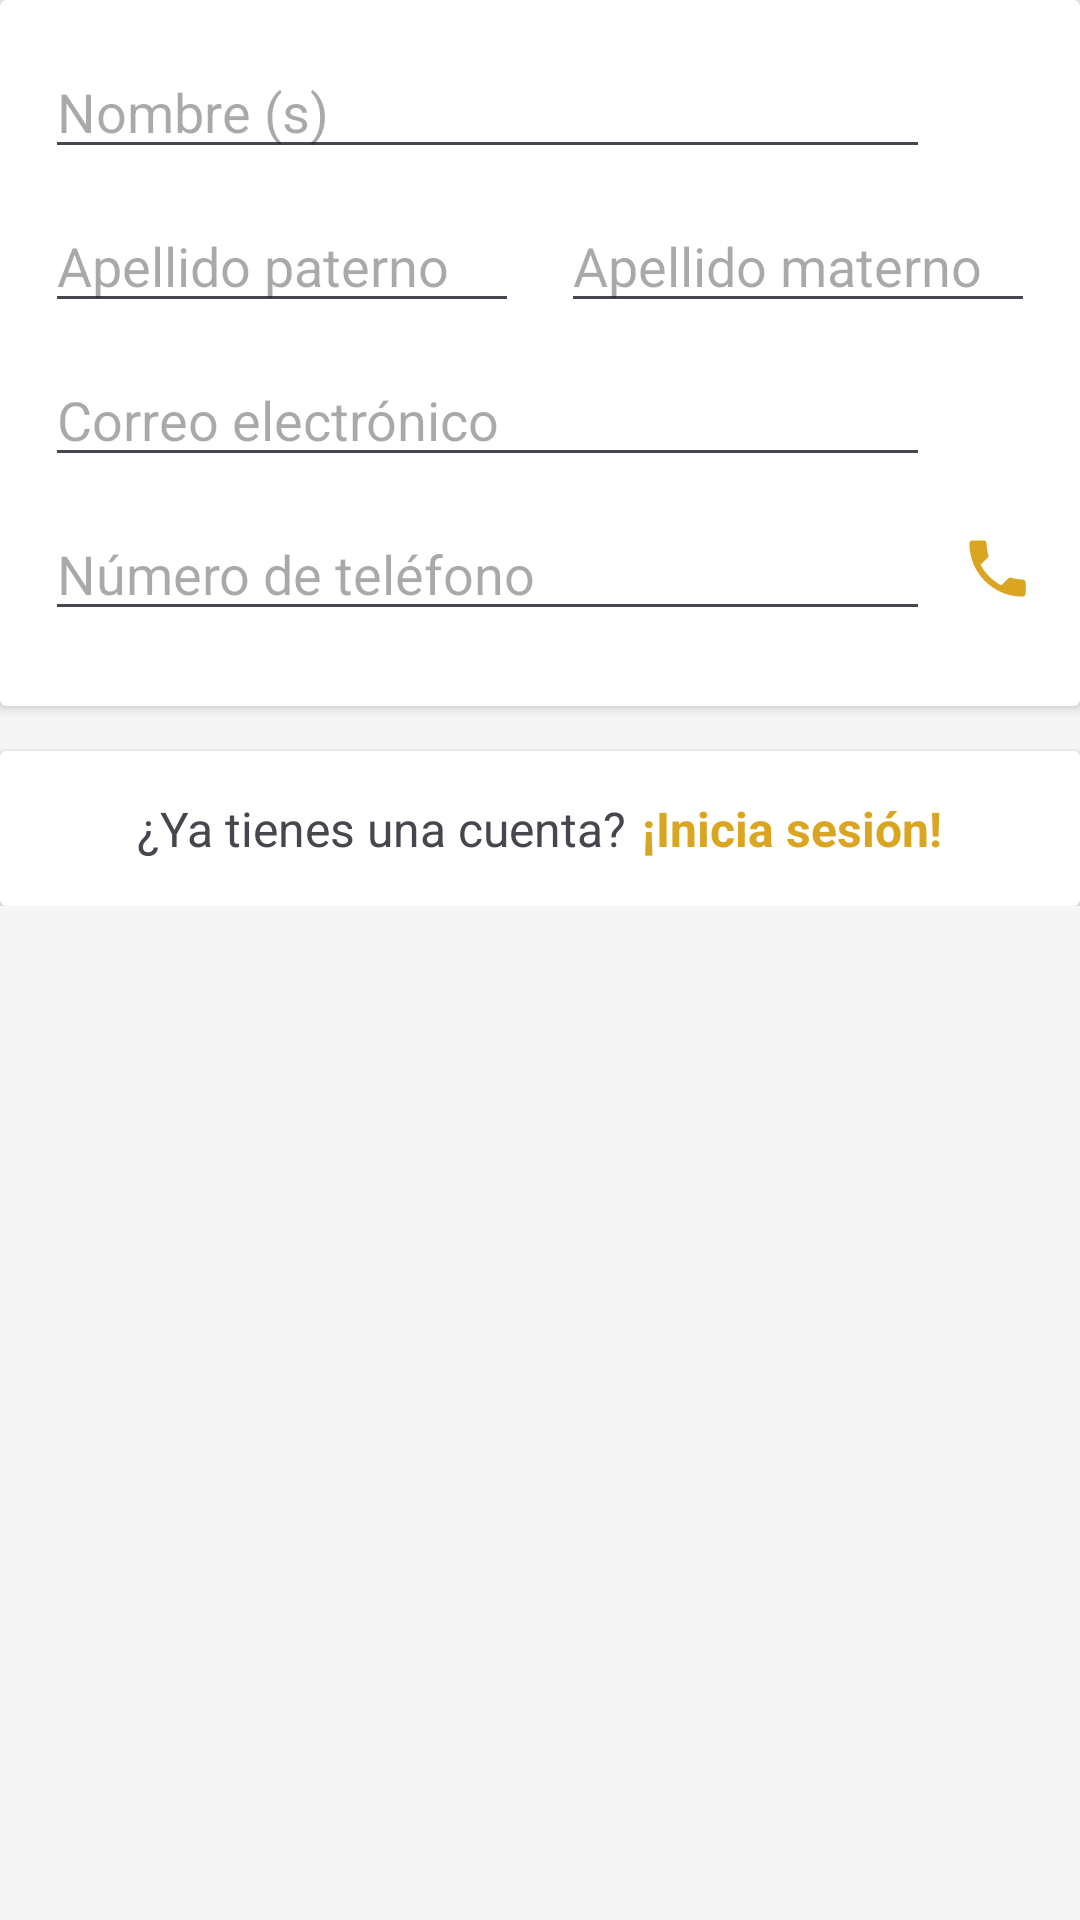

Where to tap for icons on this 1080w x 1920h app screen, as (x=x, y=y):
phone: (x=997, y=568)
